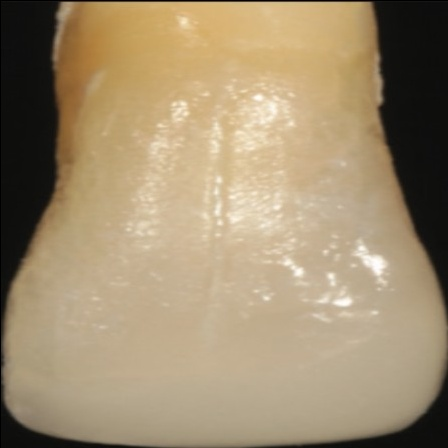coin_1: (376, 109, 396, 130)
coin_2: (416, 238, 436, 259)
coin_3: (55, 181, 75, 201)
coin_4: (7, 295, 27, 315)
